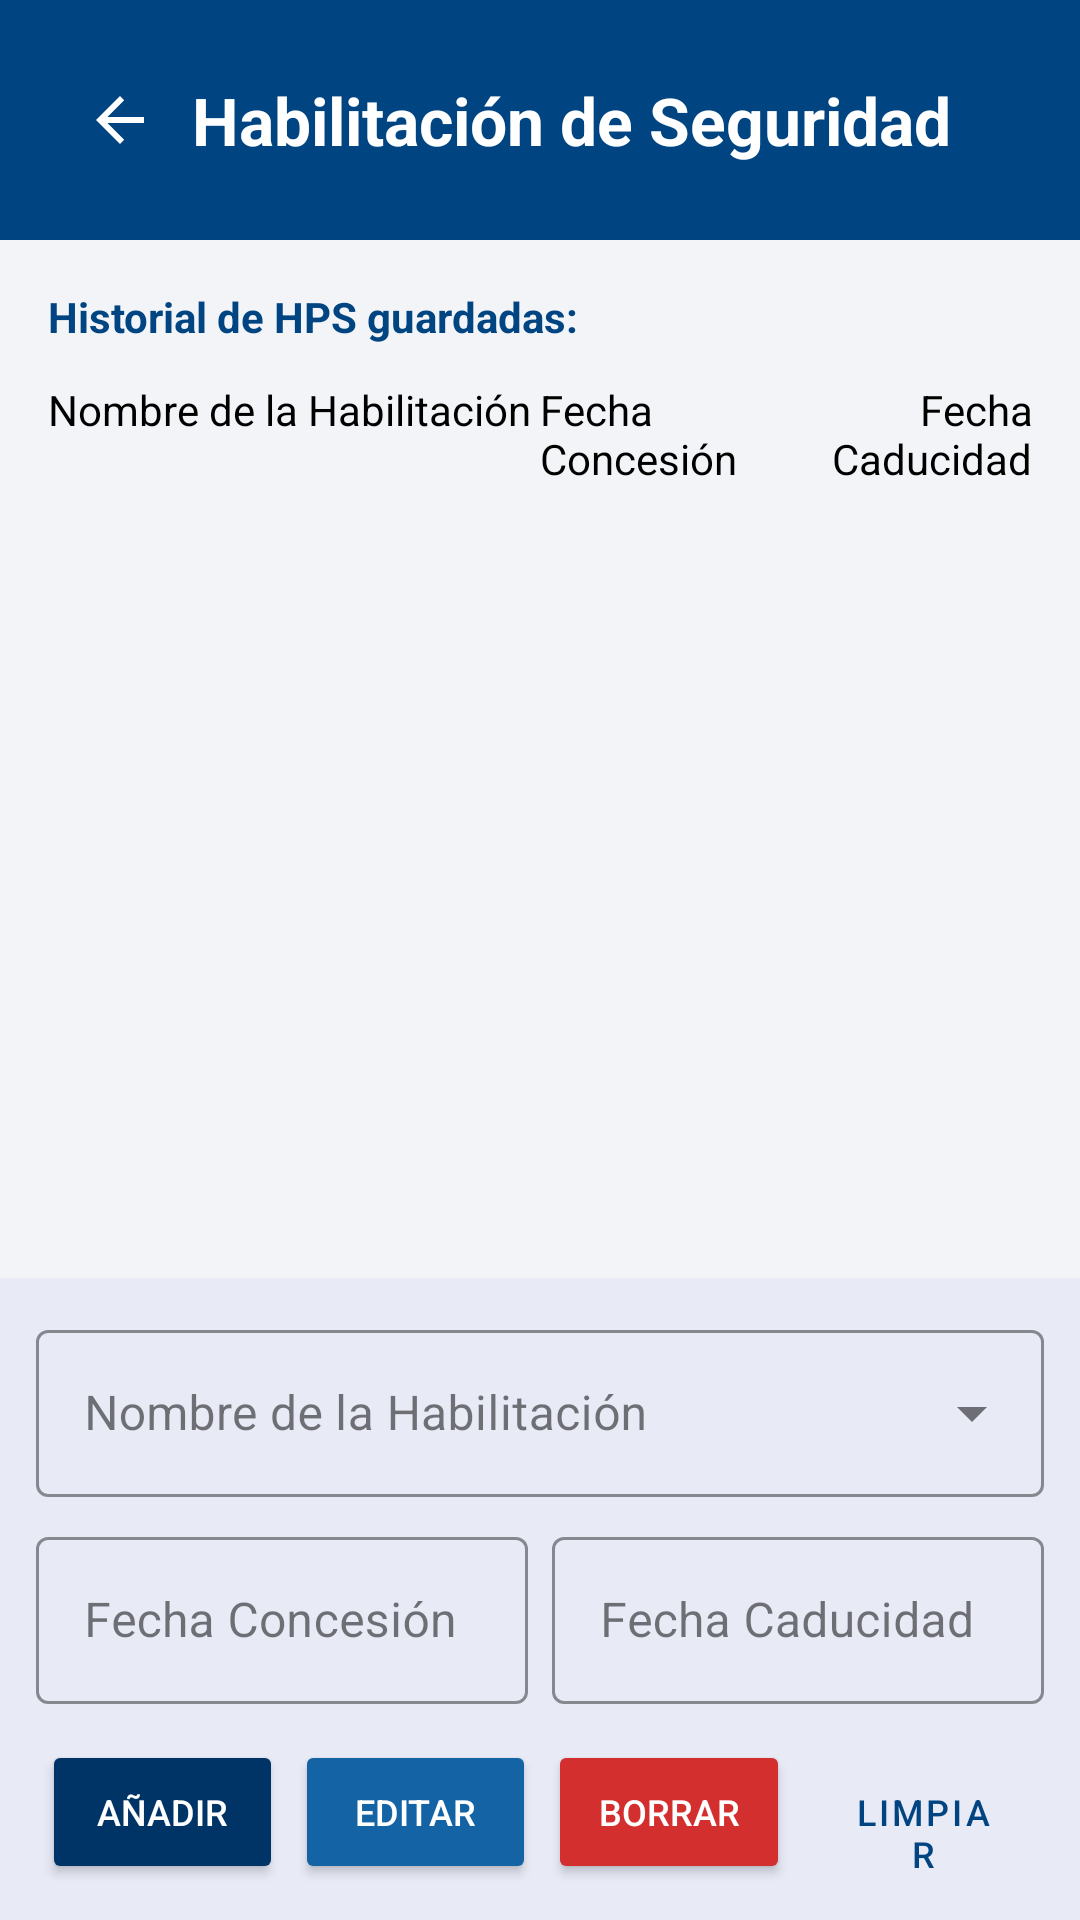

Icon bounding boxes for this 1080 x 1920 phone screenshot, format rect(x1, y1, x2, y2):
Volver: rect(96, 96, 144, 144)
